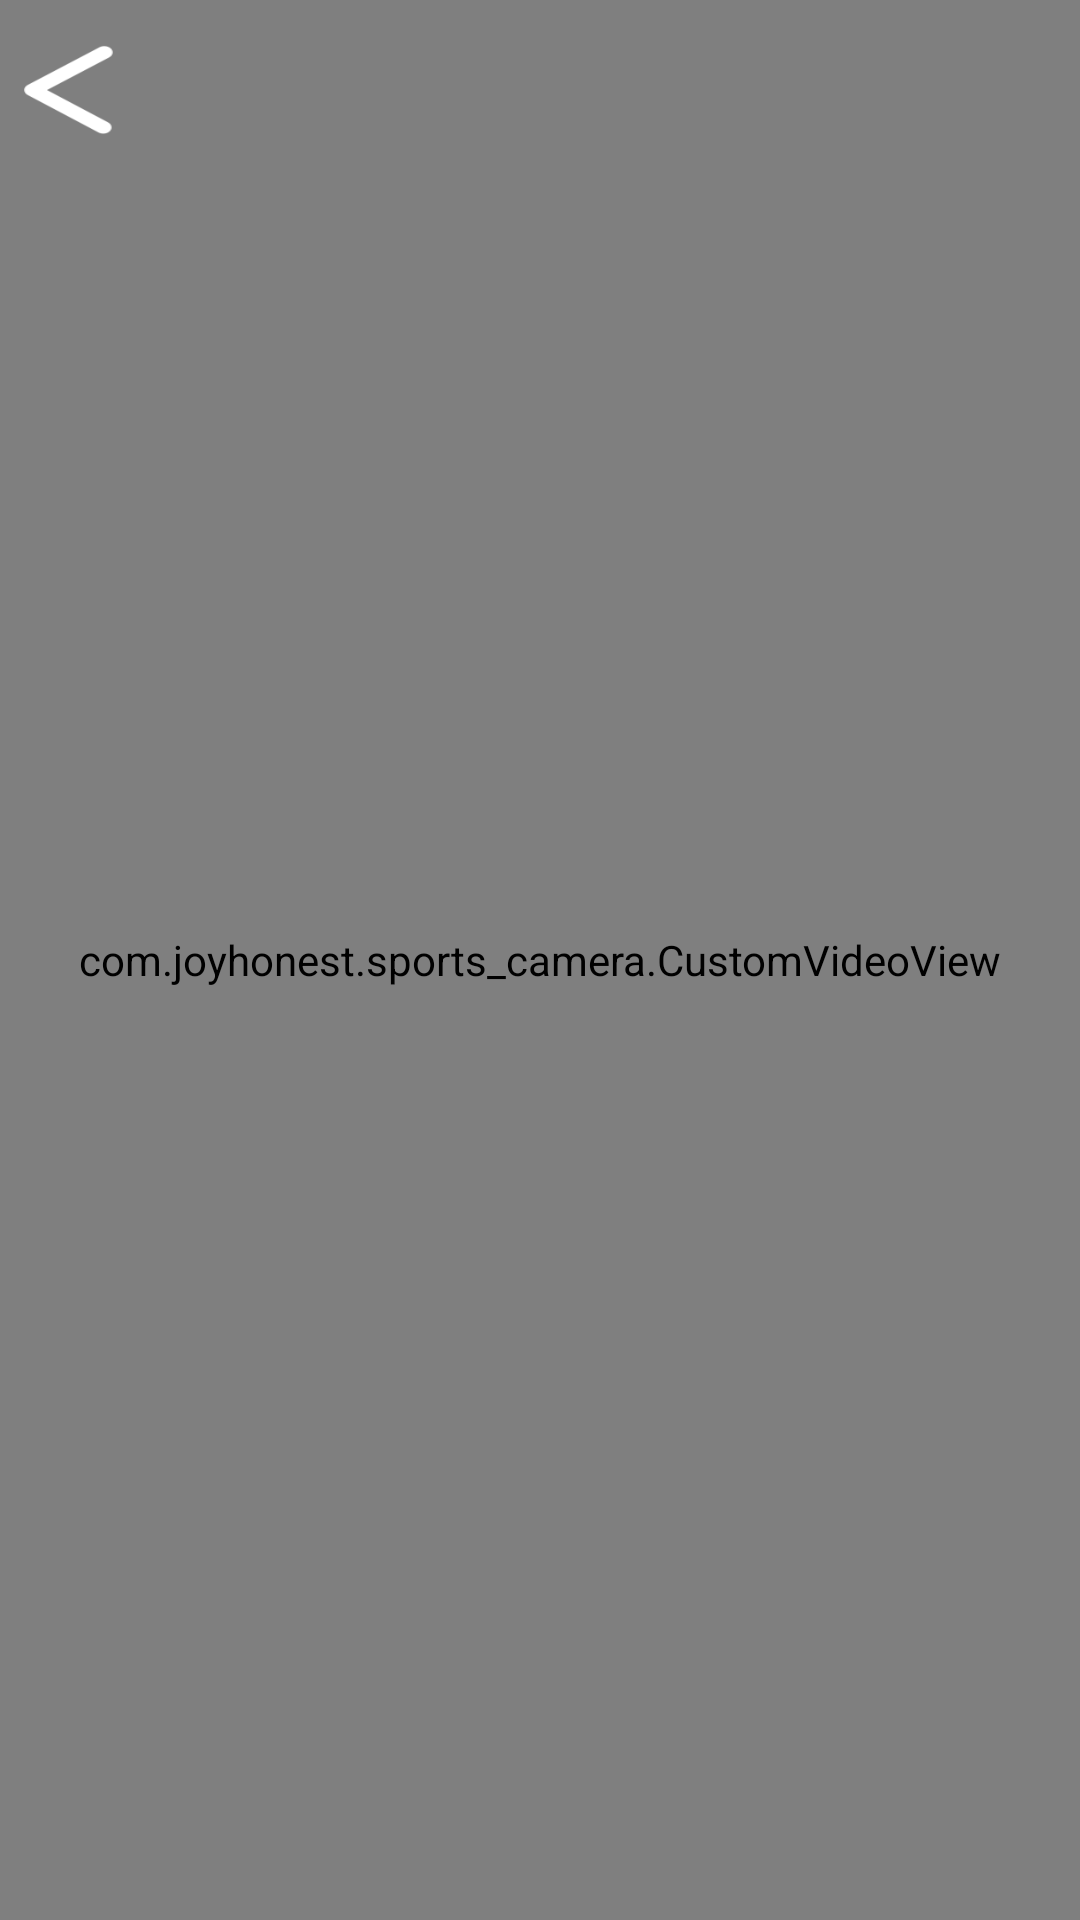

Where icons sit on this 1080x1920 app screen, as (x1, y1, x2, y2):
back: (24, 46, 113, 134)
